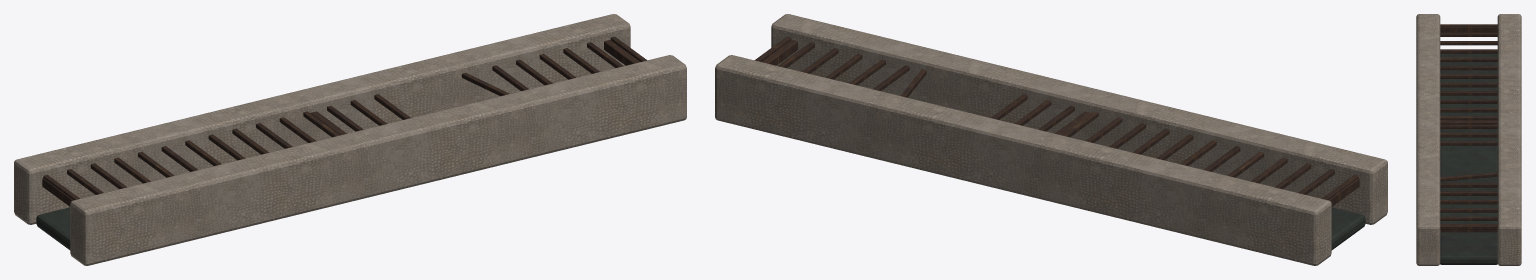
The model's file is lod0_NOT_APPROVED.glb.
3 renders of one model, left to right at view 1: azimuth 30°, elevation 25°; view 2: azimuth 150°, elevation 25°; view 3: azimuth 270°, elevation 25°, orthographic. The views are drawn at different scales.
Parts seen in each view (by area): view 1: f3_weathered_concrete_surface, f3_oxidized_iron_surface, f3_deep_crack_surface; view 2: f3_weathered_concrete_surface, f3_oxidized_iron_surface, f3_deep_crack_surface; view 3: f3_weathered_concrete_surface, f3_deep_crack_surface, f3_oxidized_iron_surface.
Part boxes in pixels (bbox=[...]): f3_weathered_concrete_surface: bbox=[14, 14, 686, 265]; f3_oxidized_iron_surface: bbox=[42, 36, 646, 206]; f3_deep_crack_surface: bbox=[36, 207, 70, 250]; f3_weathered_concrete_surface: bbox=[715, 14, 1387, 265]; f3_oxidized_iron_surface: bbox=[755, 36, 1359, 206]; f3_deep_crack_surface: bbox=[1331, 207, 1365, 250]; f3_weathered_concrete_surface: bbox=[1416, 14, 1521, 265]; f3_deep_crack_surface: bbox=[1440, 53, 1497, 264]; f3_oxidized_iron_surface: bbox=[1440, 24, 1497, 232].
Bounding box in the file's own units: 3.6 × 0.33 × 0.75.
Materials: 3 (3 with a texture image).
